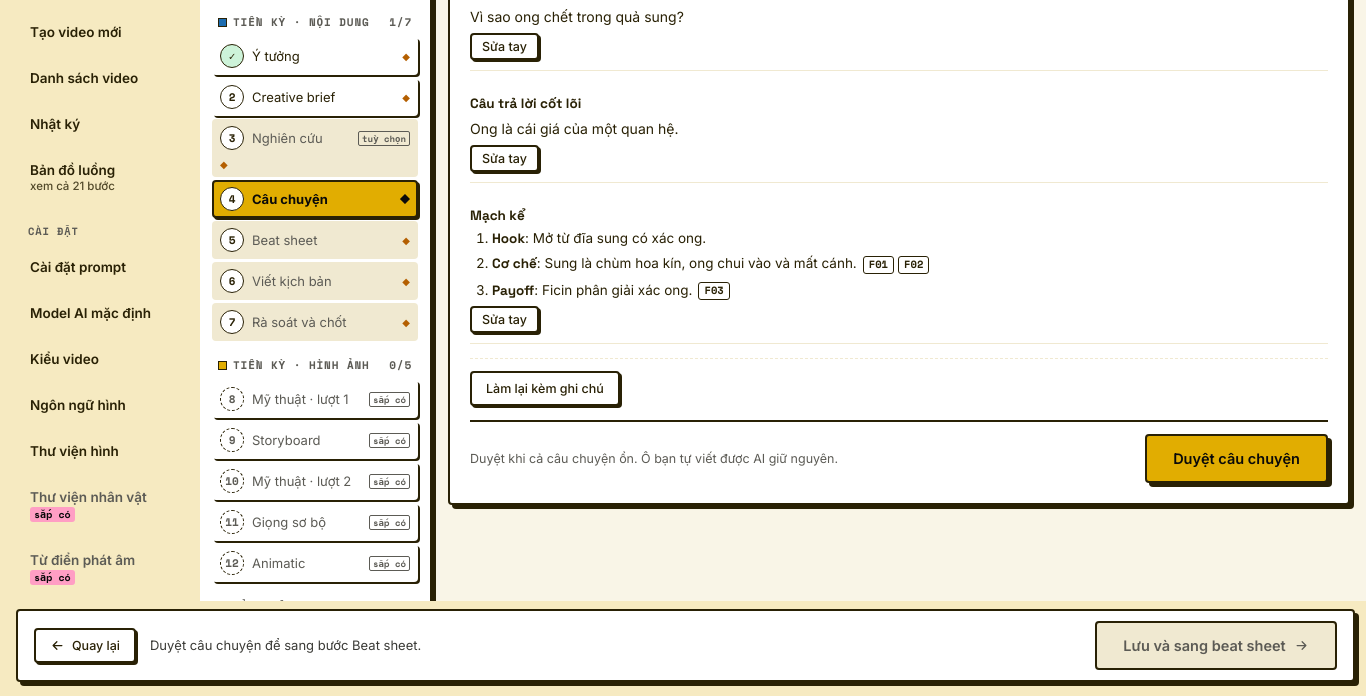
it: StoryStepPage › lets the Creator pick the model the story step runs on
(page scrolled)
Step 1. Click the button with test id "story-redo-all" → (545, 388), box [470,371,620,406]
(page scrolled)
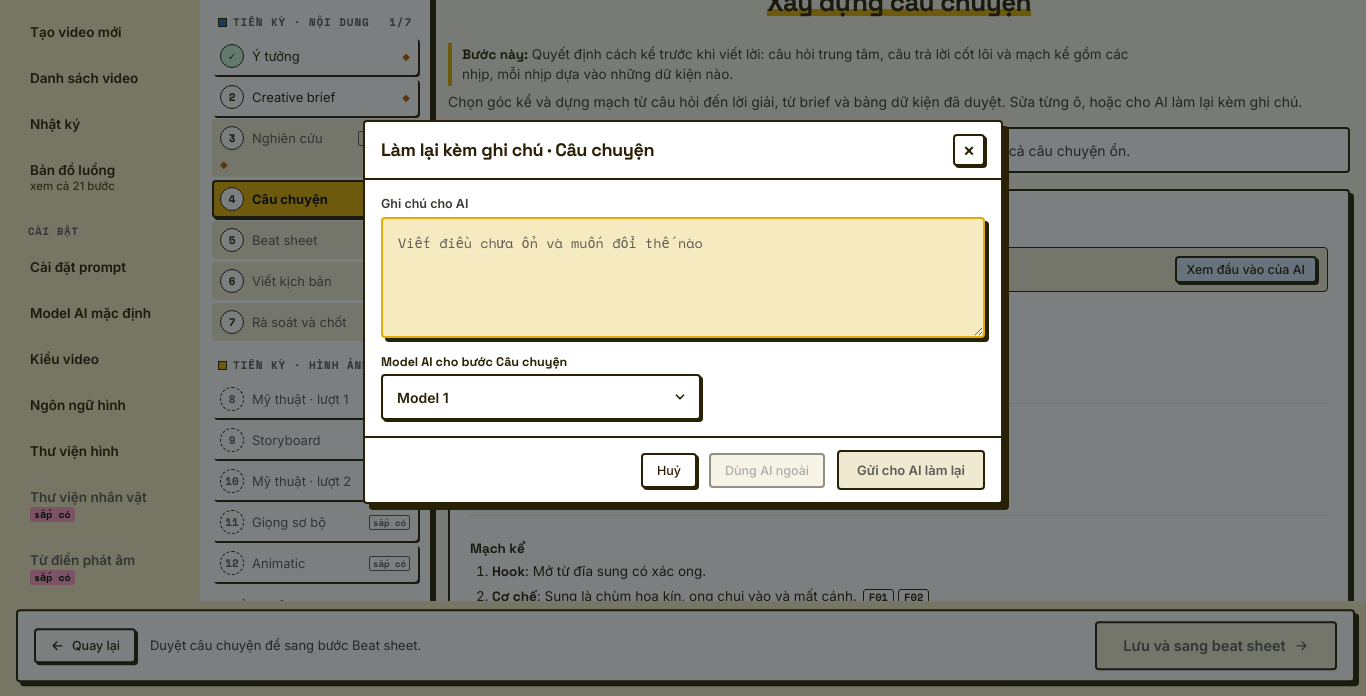
Now the element with test id "story-redo-all-model-field" shows "Model AI cho bước Câu chuyện", box [381,354,567,370]
